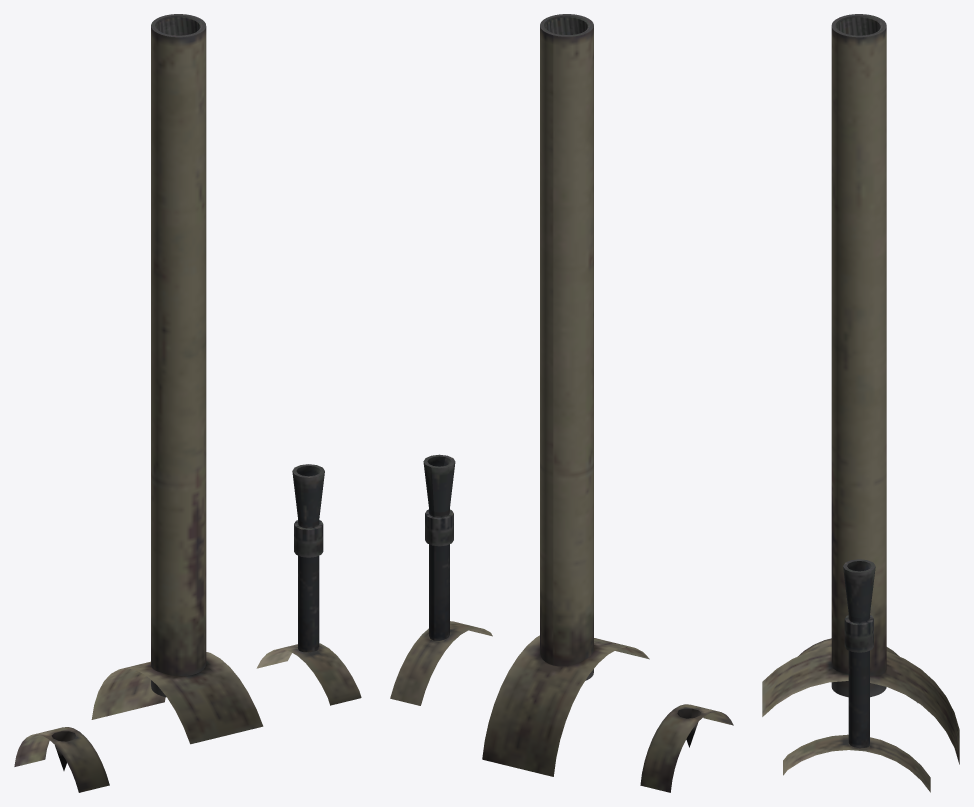
File: Gun_06.glb
3 renders of one model, left to right at view 1: azimuth 30°, elevation 25°; view 2: azimuth 150°, elevation 25°; view 3: azimuth 270°, elevation 25°, orthographic. The views are drawn at different scales.
Visible parts, largest first — view 1: set_0_group_0; view 2: set_0_group_0; view 3: set_0_group_0.
Boxes of the visible parts, x1,y1,x2,y2 form: set_0_group_0: [14, 14, 361, 792]; set_0_group_0: [390, 14, 733, 792]; set_0_group_0: [762, 14, 959, 792].
Size of the model in its own units: 0.5719 by 1.42 by 0.3488.
Materials: 1 (1 with a texture image).
